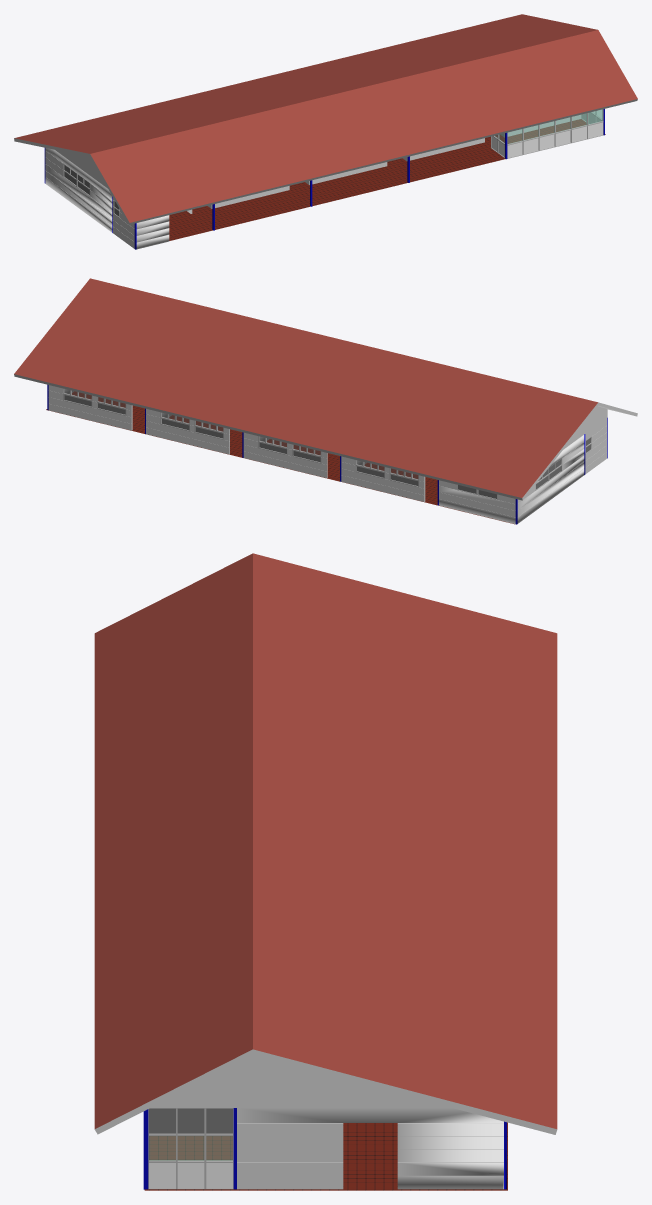
The model's file is AulasMate.fbx.
3 views of the same model, one above another, from view 1: azimuth 30°, elevation 25°; view 2: azimuth 150°, elevation 25°; view 3: azimuth 270°, elevation 25° (orthographic). The views are drawn at different scales.
Parts seen in each view (by area): view 1: AulasMate; view 2: AulasMate; view 3: AulasMate.
Boxes of the visible parts, x1=… form: AulasMate: x1=14, y1=14, x2=637, y2=249; AulasMate: x1=14, y1=278, x2=637, y2=524; AulasMate: x1=94, y1=553, x2=557, y2=1190.
Bounding box in the file's own units: 3908 × 589 × 1541.
12 materials, 5 textured.
